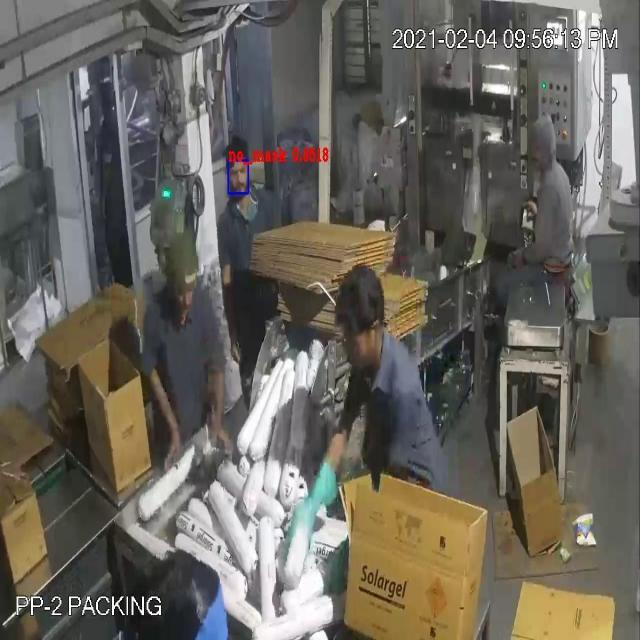No_Gloves: (30, 132, 309, 502)
